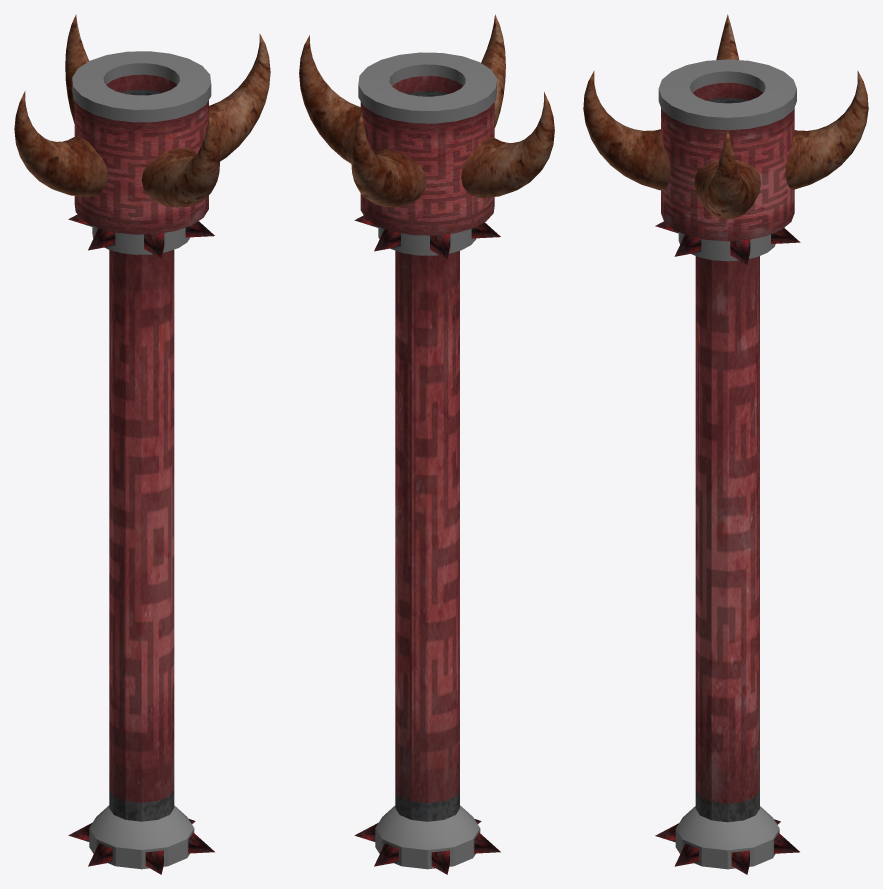
The model's file is Torch.fbx.
3 renders of one model, left to right at view 1: azimuth 30°, elevation 25°; view 2: azimuth 150°, elevation 25°; view 3: azimuth 270°, elevation 25°, orthographic.
Parts seen in each view (by area): view 1: Pole, Cup, Lip, Horn, Base, Horn1, Horn2, LowerRim, Horn3; view 2: Pole, Cup, Lip, Horn, Base, Horn3, Horn2, Horn1, LowerRim; view 3: Pole, Cup, Lip, Horn1, Base, Horn3, Horn2, LowerRim, Horn.
Part boxes in pixels (bbox=[...]): Pole: bbox=[109, 249, 174, 821]; Cup: bbox=[74, 74, 208, 234]; Lip: bbox=[72, 51, 211, 122]; Horn: bbox=[14, 91, 108, 196]; Base: bbox=[89, 805, 194, 869]; Horn1: bbox=[141, 112, 219, 207]; Horn2: bbox=[209, 33, 270, 161]; LowerRim: bbox=[92, 225, 190, 254]; Horn3: bbox=[65, 14, 88, 123]; Pole: bbox=[395, 250, 459, 821]; Cup: bbox=[360, 76, 494, 235]; Lip: bbox=[358, 52, 496, 123]; Horn: bbox=[461, 92, 554, 198]; Base: bbox=[375, 805, 480, 869]; Horn3: bbox=[351, 111, 426, 207]; Horn2: bbox=[299, 35, 360, 163]; Horn1: bbox=[481, 14, 505, 127]; LowerRim: bbox=[378, 226, 476, 255]; Pole: bbox=[695, 256, 759, 822]; Cup: bbox=[661, 82, 794, 241]; Lip: bbox=[658, 59, 796, 130]; Horn1: bbox=[583, 70, 670, 190]; Base: bbox=[675, 806, 779, 869]; Horn3: bbox=[785, 70, 868, 189]; Horn2: bbox=[694, 127, 761, 219]; LowerRim: bbox=[678, 232, 775, 261]; Horn: bbox=[716, 14, 739, 59].
Bounding box in the file's own units: 0.4398 × 1.3 × 0.4327.
